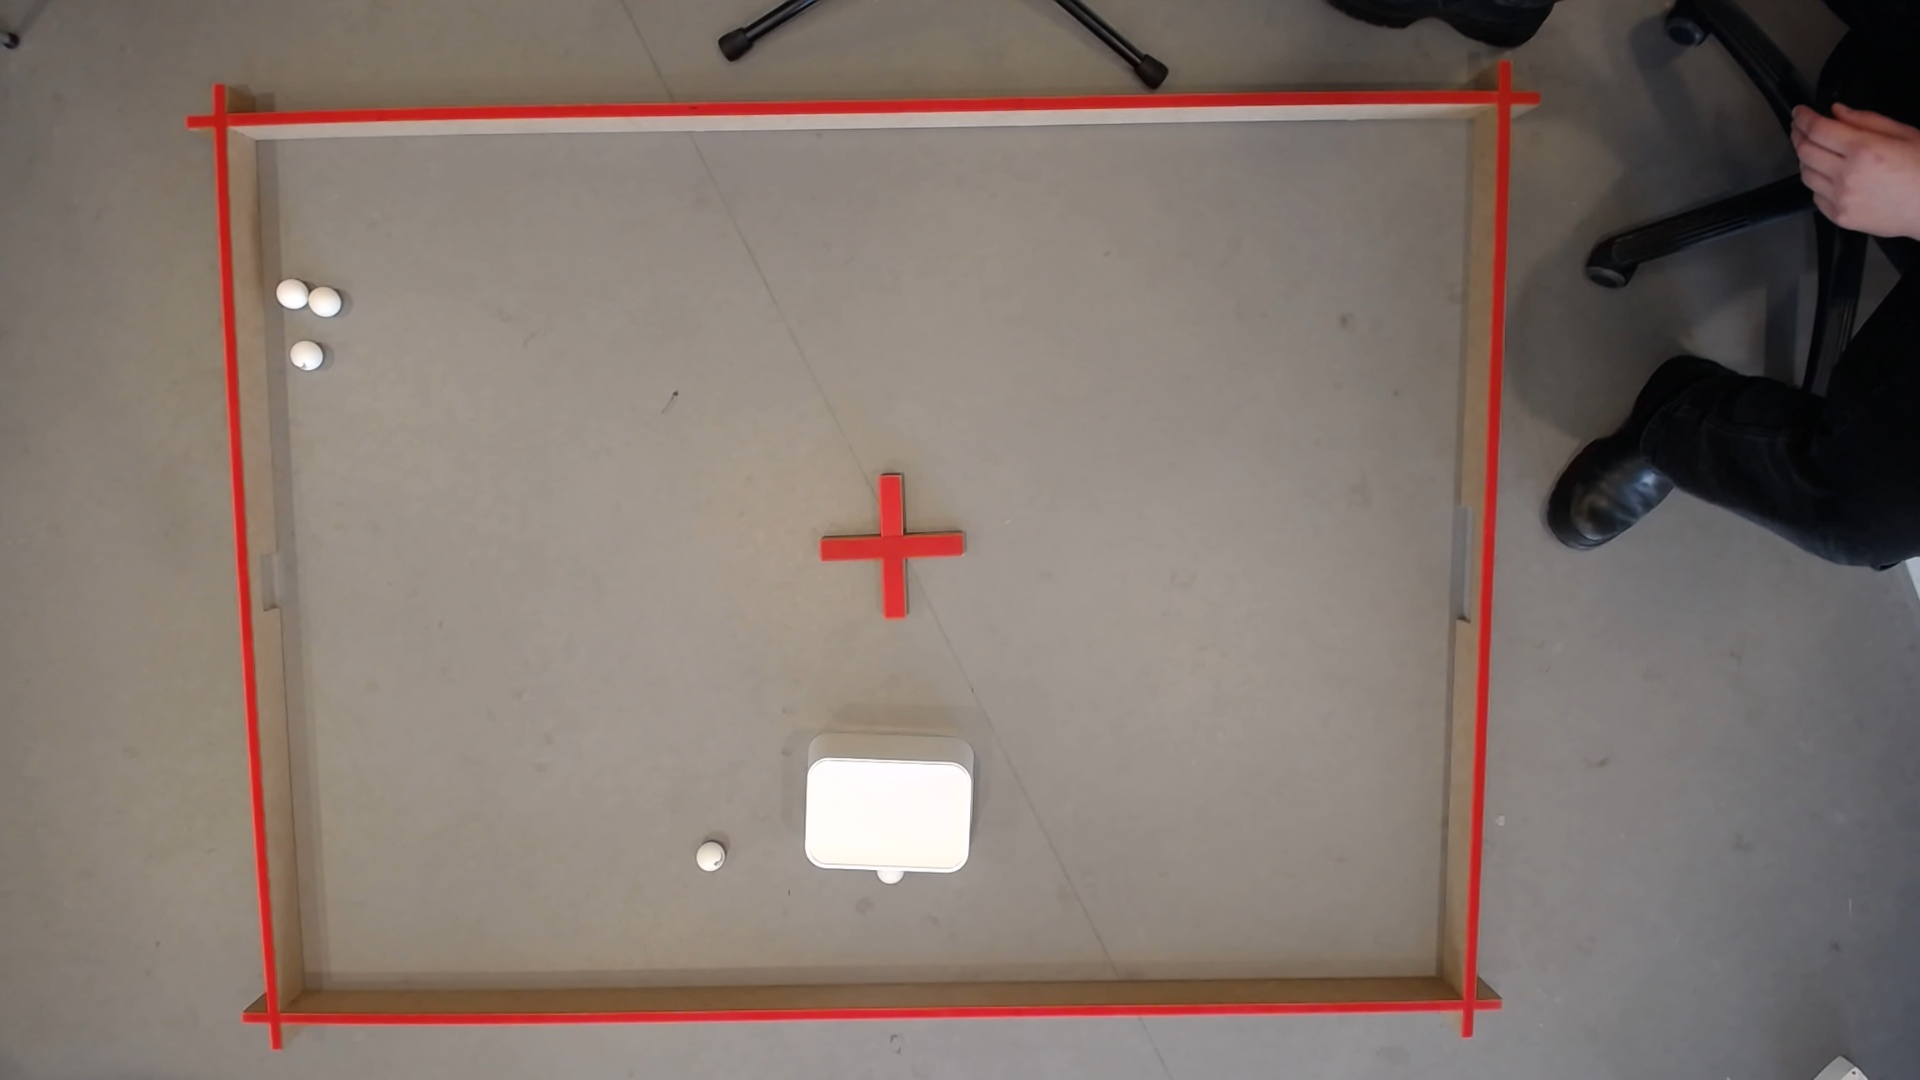balls: (272, 278, 310, 313), (287, 342, 324, 373), (309, 294, 340, 316)
car: (696, 852, 720, 870)
